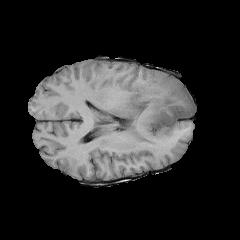glioma: (114, 75, 194, 135)
